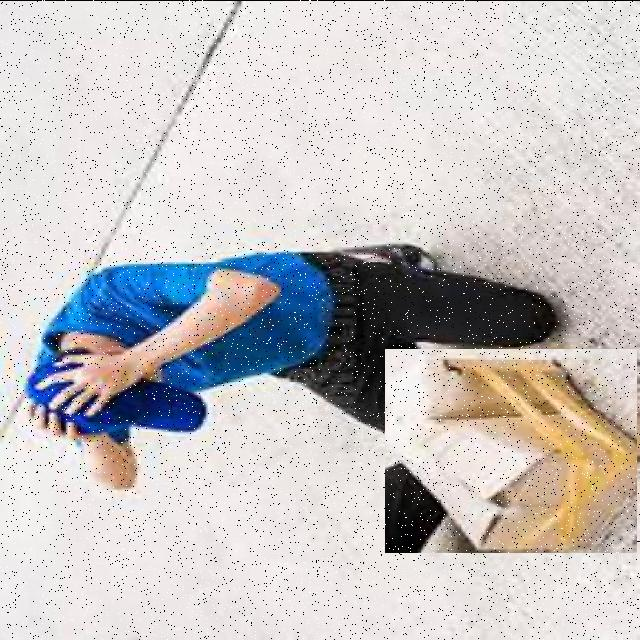defect: (385, 348, 637, 552)
